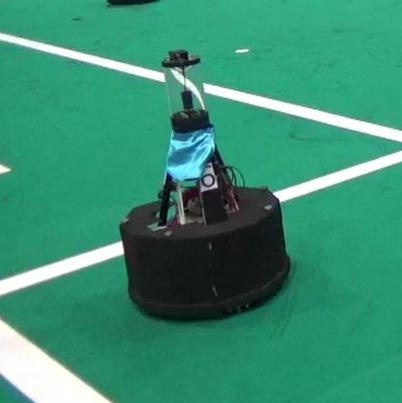robot: (117, 45, 292, 325)
